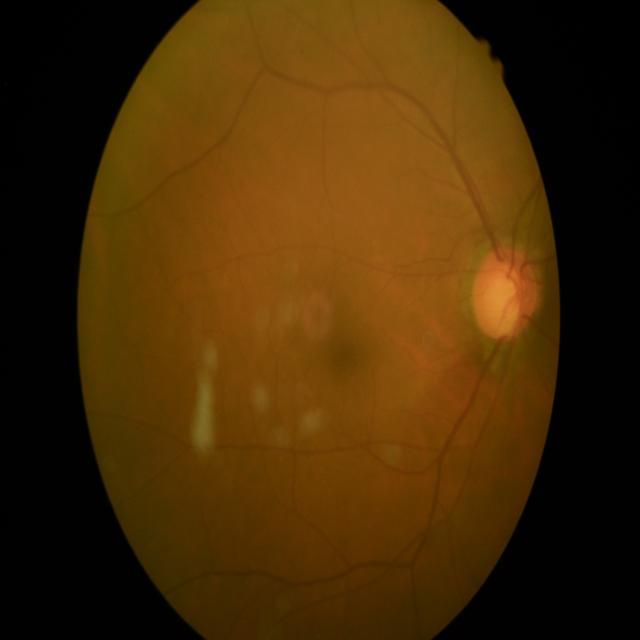cup: (484, 262, 520, 332)
disk: (471, 247, 538, 339)
